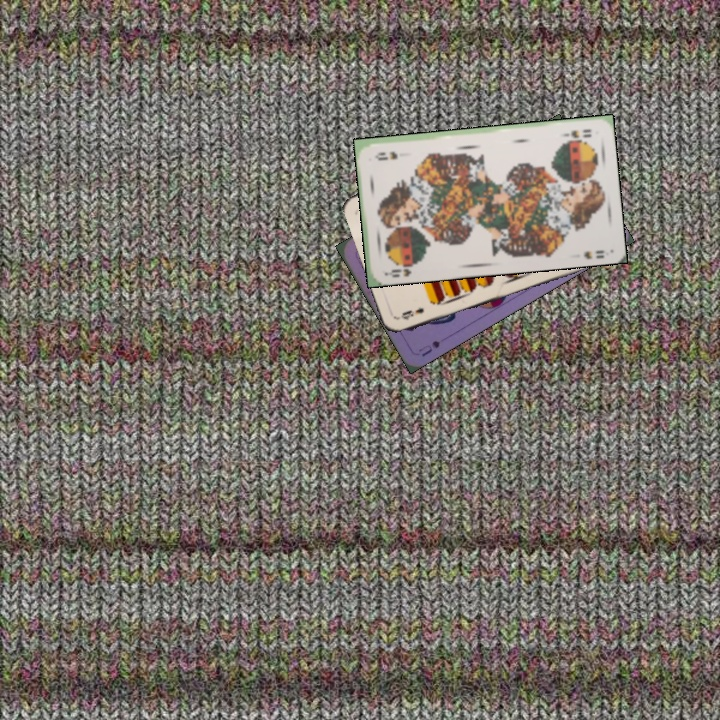E9: (397, 303, 426, 323)
SO: (381, 258, 421, 280), (559, 125, 594, 141)
SU: (414, 336, 443, 359)
